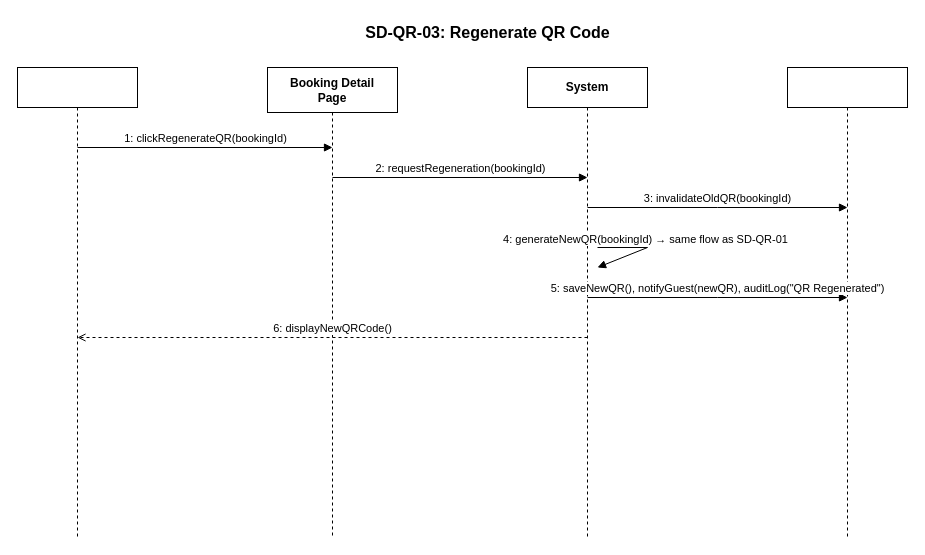
Image size: 925x555. Some labels were removed from this diagram. Here are the shapes that lost their labels. From the top down, the box of each, then its label:
(16, 66, 138, 538): Admin
(786, 66, 908, 538): Database
